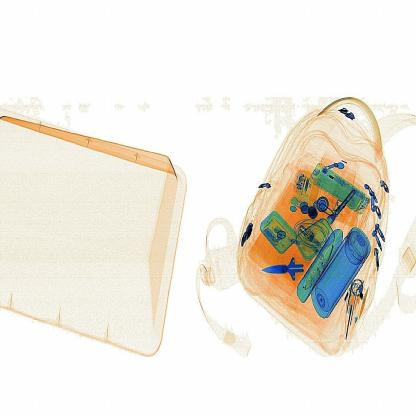gun: (262, 242, 321, 296)
